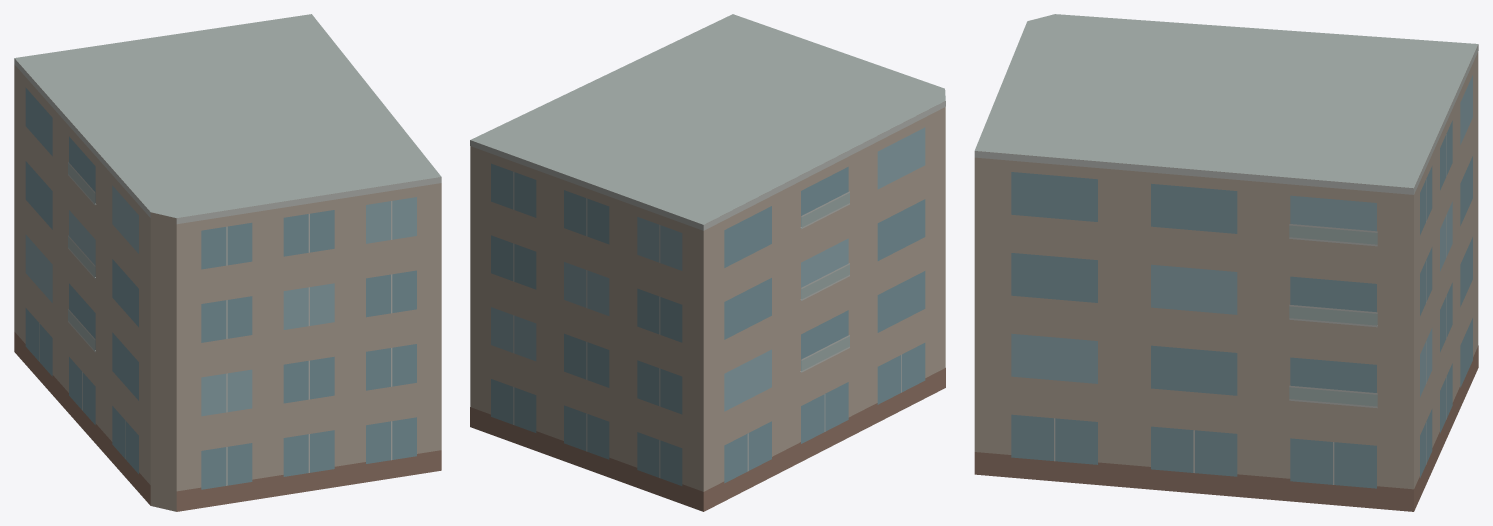
File: survey-upis-32854347.glb
3 renders of one model, left to right at view 1: azimuth 30°, elevation 25°; view 2: azimuth 150°, elevation 25°; view 3: azimuth 270°, elevation 25°, orthographic. The views are drawn at different scales.
Visible parts, largest first — view 1: survey-upis-32854347.tmp; view 2: survey-upis-32854347.tmp; view 3: survey-upis-32854347.tmp.
Boxes of the visible parts, x1,y1,x2,y2 form: survey-upis-32854347.tmp: (14, 14, 441, 511); survey-upis-32854347.tmp: (470, 14, 945, 511); survey-upis-32854347.tmp: (974, 14, 1478, 511).
Size of the model in its own units: 13.57 by 11.75 by 16.59.
